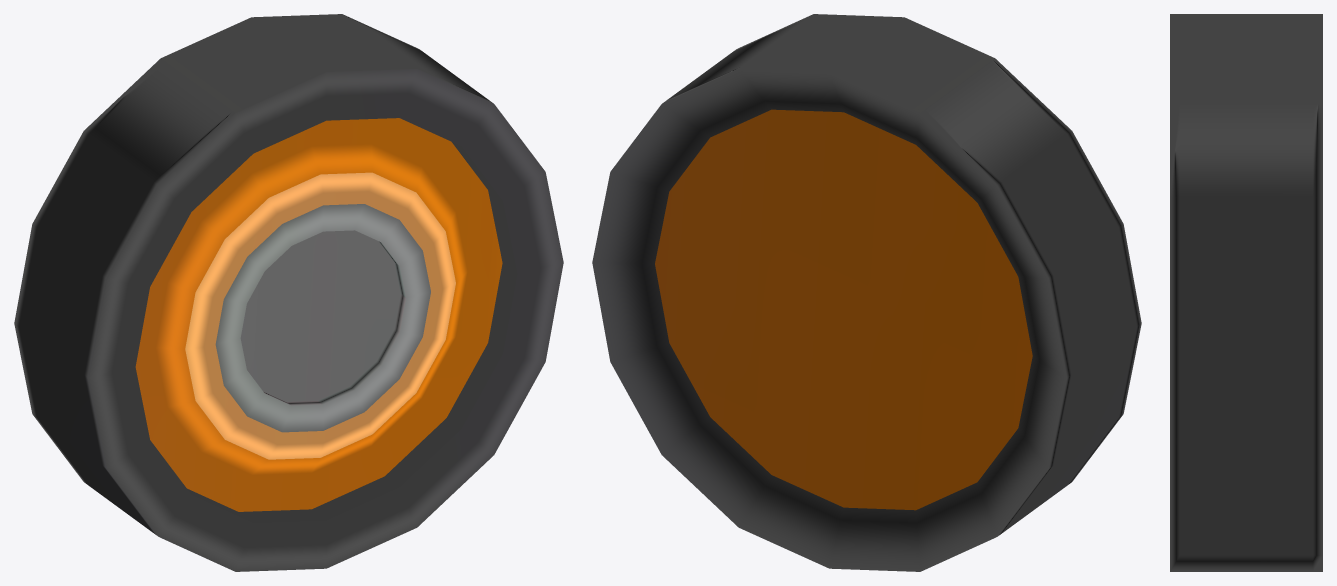
The model's file is RodaCarro.fbx.
The picture shows the model from 3 angles, left to right: view 1: azimuth 30°, elevation 25°; view 2: azimuth 150°, elevation 25°; view 3: azimuth 270°, elevation 25°; orthographic projection.
Visible parts, largest first — view 1: RodaCarro; view 2: RodaCarro; view 3: RodaCarro.
Part boxes in pixels (bbox=[...]): RodaCarro: bbox=[14, 14, 563, 571]; RodaCarro: bbox=[592, 14, 1141, 571]; RodaCarro: bbox=[1170, 14, 1322, 571].
Bounding box in the file's own units: 59.36 × 59.36 × 16.24.
